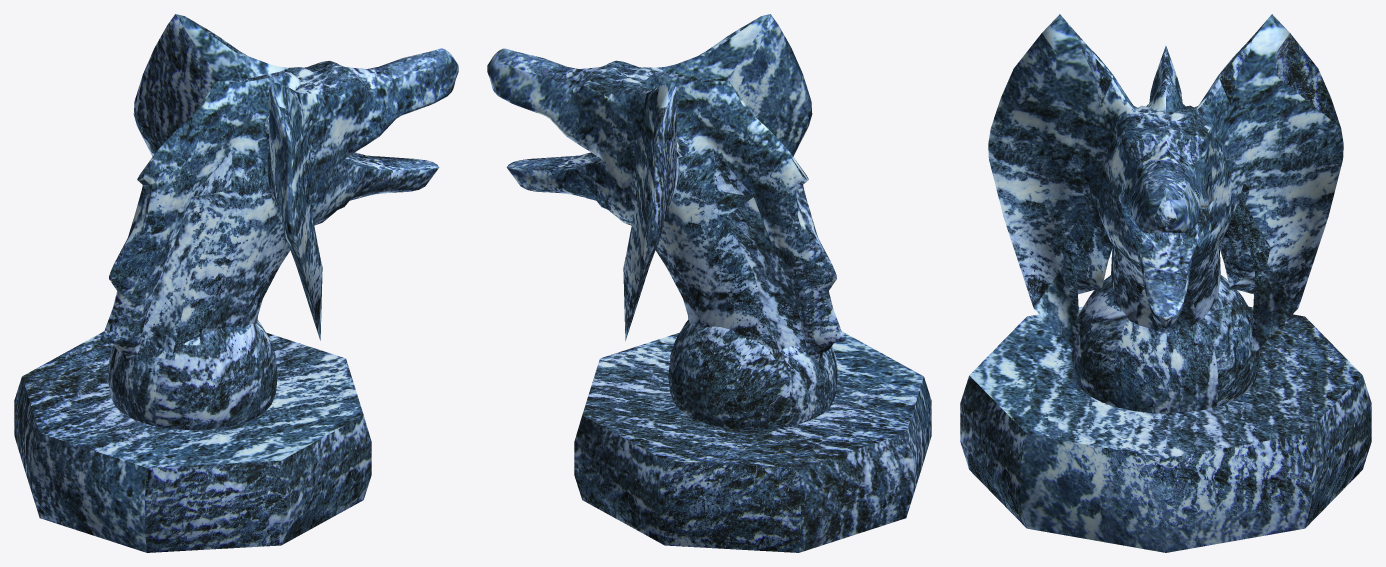
File: Pawn.FBX
3 renders of one model, left to right at view 1: azimuth 30°, elevation 25°; view 2: azimuth 150°, elevation 25°; view 3: azimuth 270°, elevation 25°, orthographic. The views are drawn at different scales.
Parts seen in each view (by area): view 1: Pawn; view 2: Pawn; view 3: Pawn.
Boxes of the visible parts, bbox=[...] form: Pawn: bbox=[14, 14, 458, 552]; Pawn: bbox=[487, 14, 931, 552]; Pawn: bbox=[960, 14, 1371, 552].
Bounding box in the file's own units: 2009 × 1921 × 1518.
Materials: 1 (1 with a texture image).
